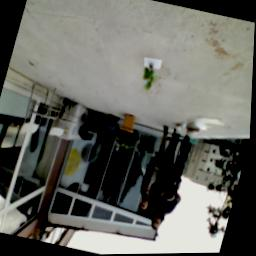herb: (139, 61, 164, 94)
